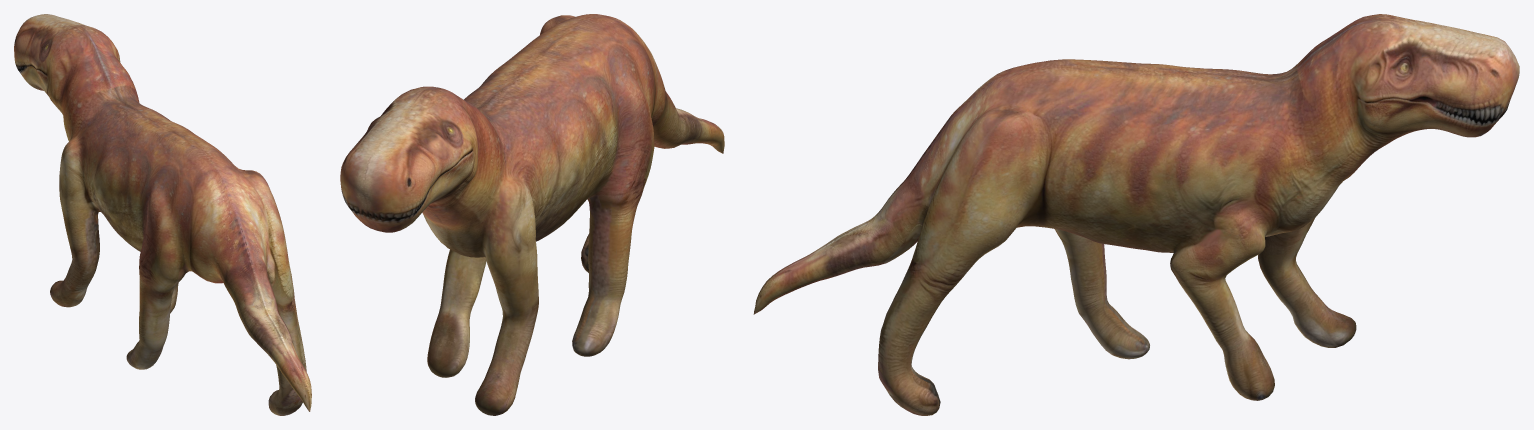
Rendered from 02 Theriodonte 3D.glb.
3 renders of one model, left to right at view 1: azimuth 30°, elevation 25°; view 2: azimuth 150°, elevation 25°; view 3: azimuth 270°, elevation 25°, orthographic. The views are drawn at different scales.
Parts seen in each view (by area): view 1: Mesh0; view 2: Mesh0; view 3: Mesh0.
Part boxes in pixels (x1,y1,x2,y2): Mesh0: (14, 14, 311, 415); Mesh0: (340, 14, 724, 415); Mesh0: (753, 14, 1519, 415).
Size of the model in its own units: 2.5 by 6.4 by 11.92.
Materials: 1 (1 with a texture image).
